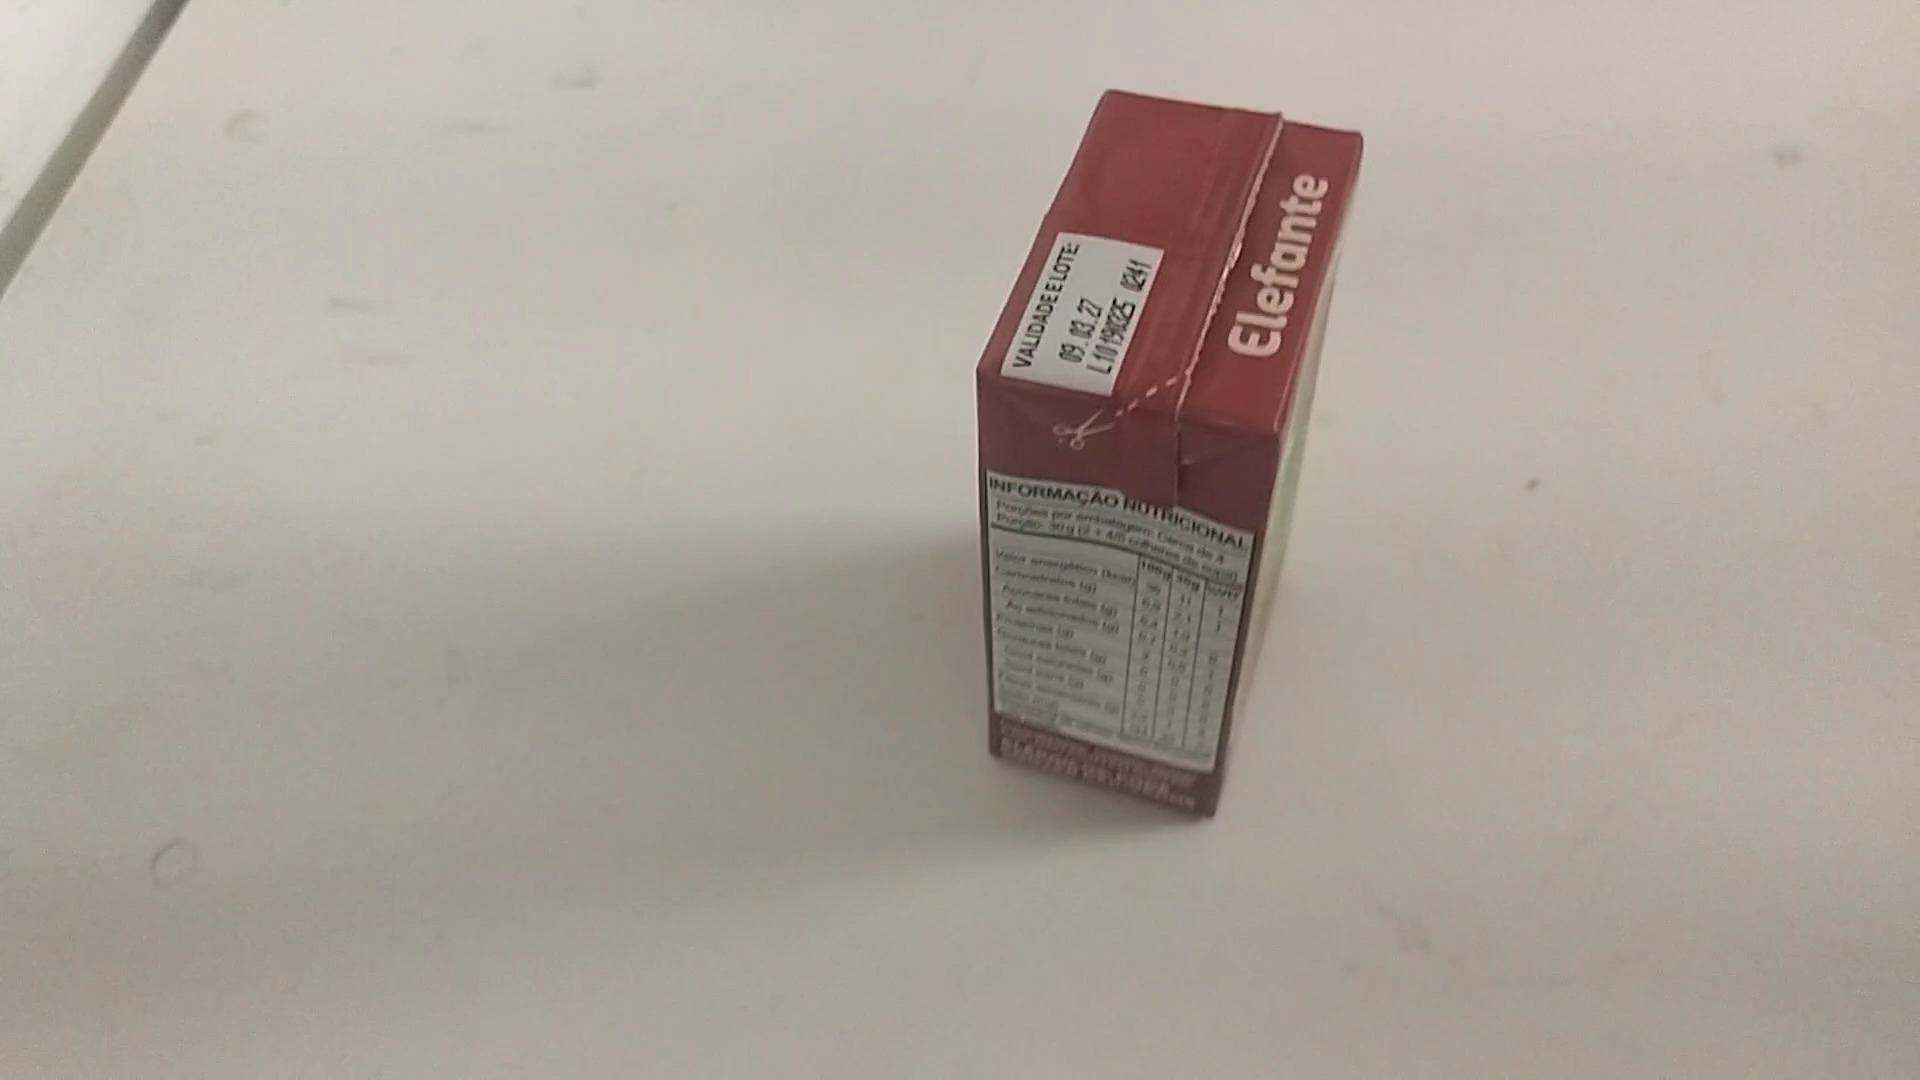tomate: (887, 61, 1382, 833)
